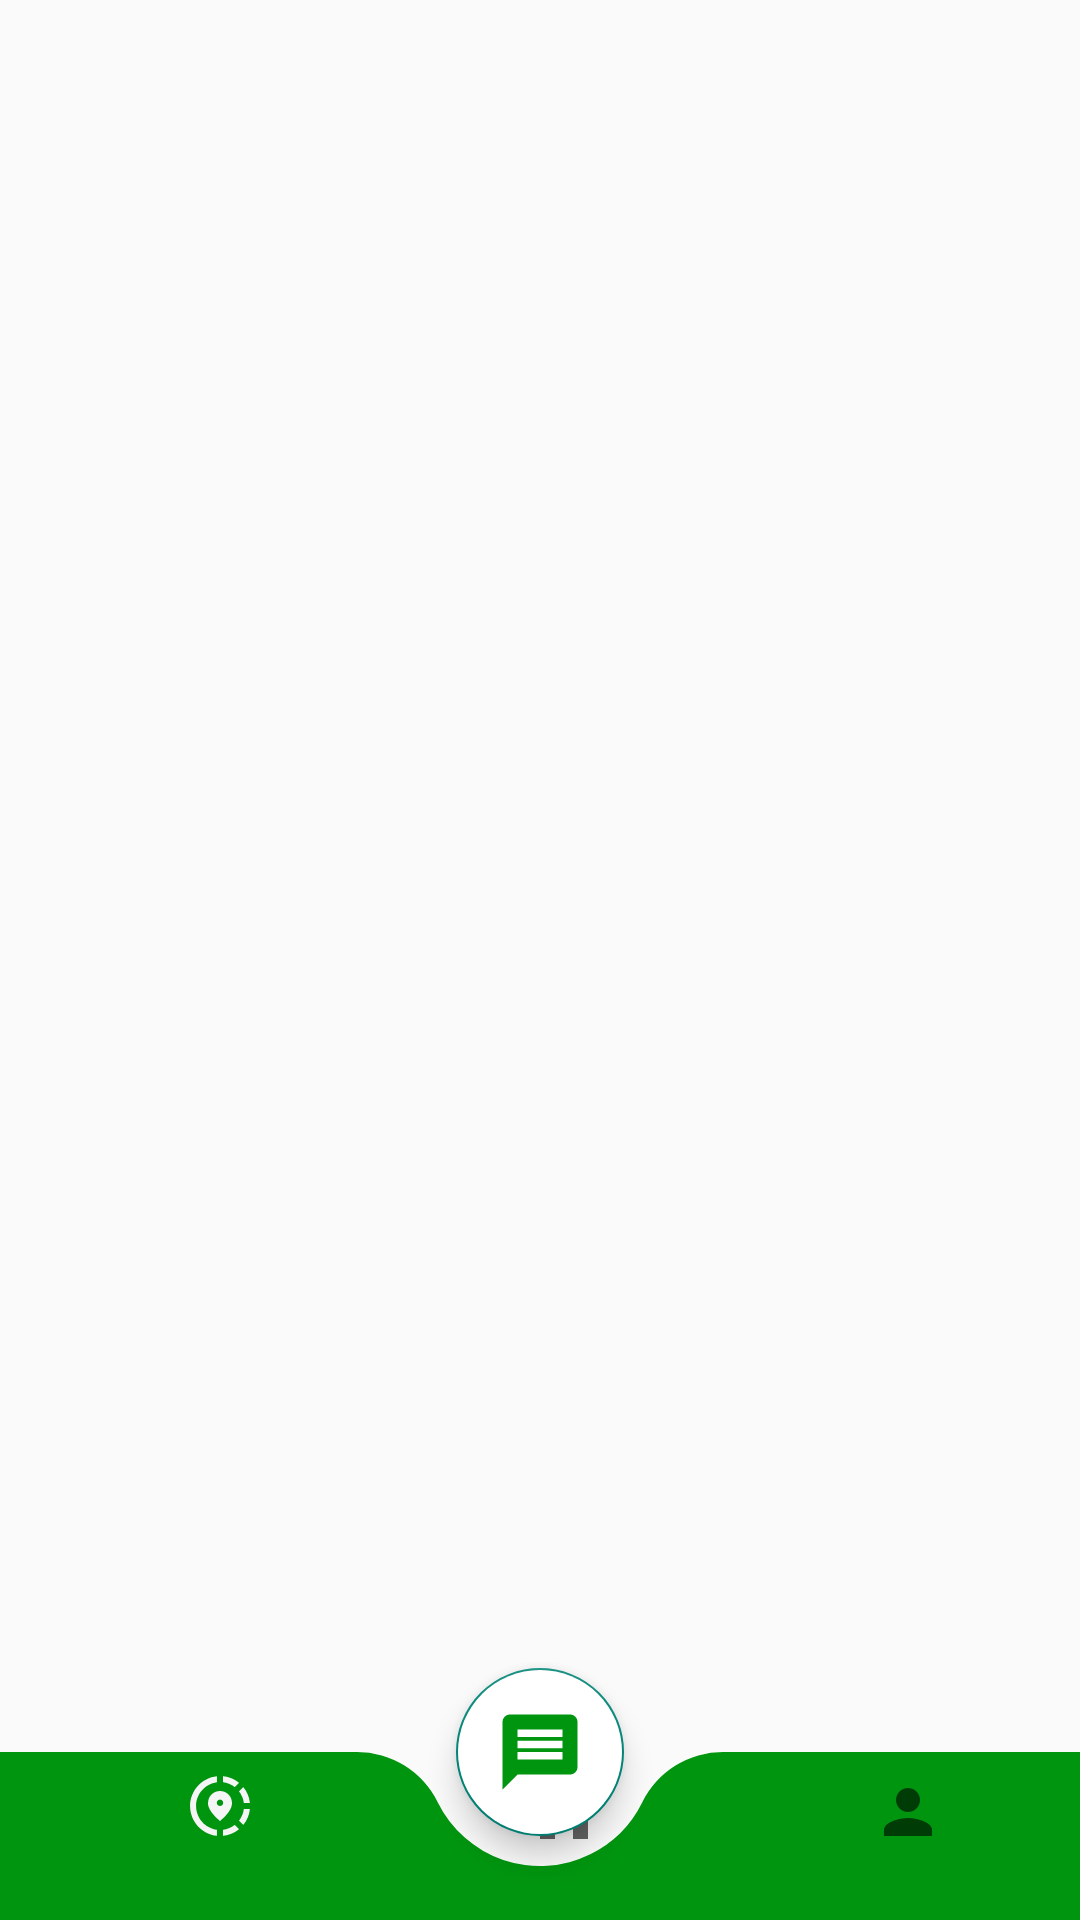

Where to tap for icons on this 1080×1920 app screen, as [x,y]:
message: [540,1752]
